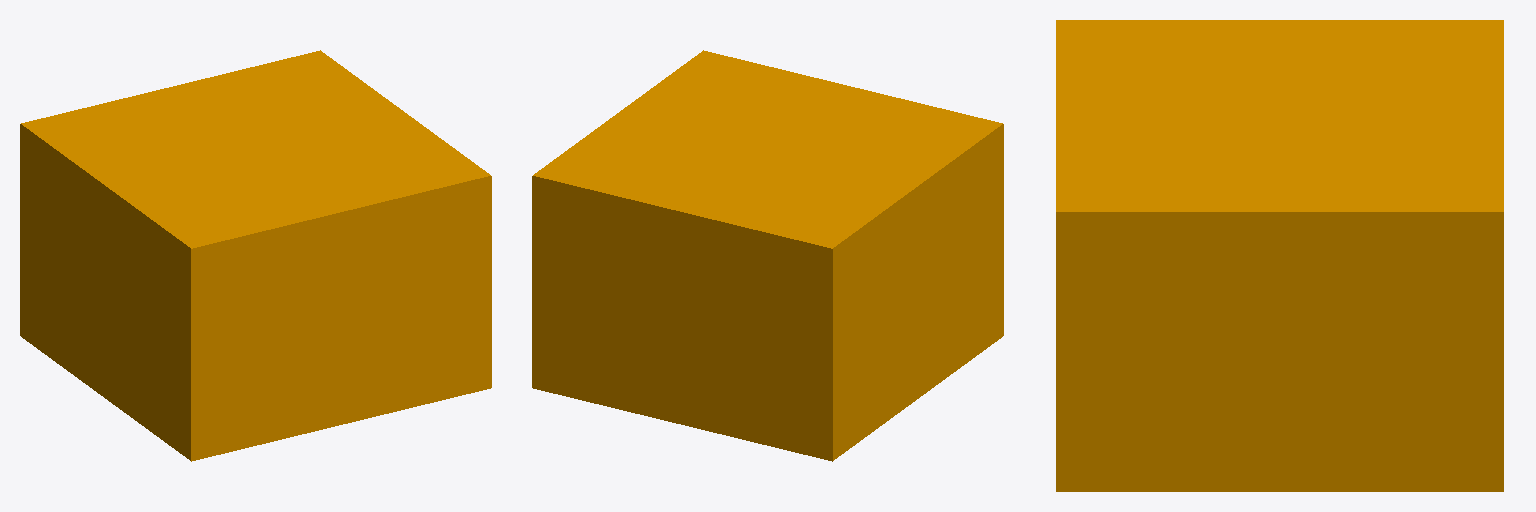
The robot description file, URDF, robot "object":
<?xml version="1.0"?>
<!-- Auto-generated by tools/gen_primitive_objects.py. kind=box dims=(0.078207, 0.0772, 0.053001) -->
<robot name="object">
  <link name="object">
    <visual>
      <origin xyz="0 0 0"/>
      <geometry>
        <box size="0.078207 0.077200 0.053001"/>
      </geometry>
    </visual>
    <collision>
      <origin xyz="0 0 0"/>
      <geometry>
        <box size="0.078207 0.077200 0.053001"/>
      </geometry>
    </collision>
    <inertial>
      <mass value="0.064000"/>
      <inertia ixx="0.00004677" ixy="0.0" ixz="0.0" iyy="0.00004760" iyz="0.0" izz="0.00006441"/>
    </inertial>
  </link>
</robot>

--- What the picture shows (computed from the rendered views, not written in the file) ---
The picture shows the robot from 3 angles, left to right: view 1: azimuth 30°, elevation 25°; view 2: azimuth 150°, elevation 25°; view 3: azimuth 270°, elevation 25°; orthographic projection.
Model object with 1 links and 0 joints (none), rooted at object, posed every joint at zero.
Links seen in each view (by area): view 1: object; view 2: object; view 3: object.
Boxes of the visible links, x1,y1,x2,y2 form: object: [20, 50, 491, 461]; object: [532, 50, 1003, 461]; object: [1056, 20, 1503, 491].
Size in the robot's own frame: 0.0782 by 0.0772 by 0.053 metres.
Geometry: primitives only (box / cylinder / sphere), no mesh files.
